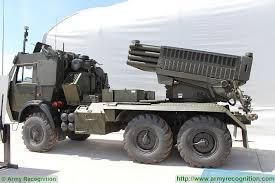MIL_SAM_TEL: (10, 40, 252, 167)
